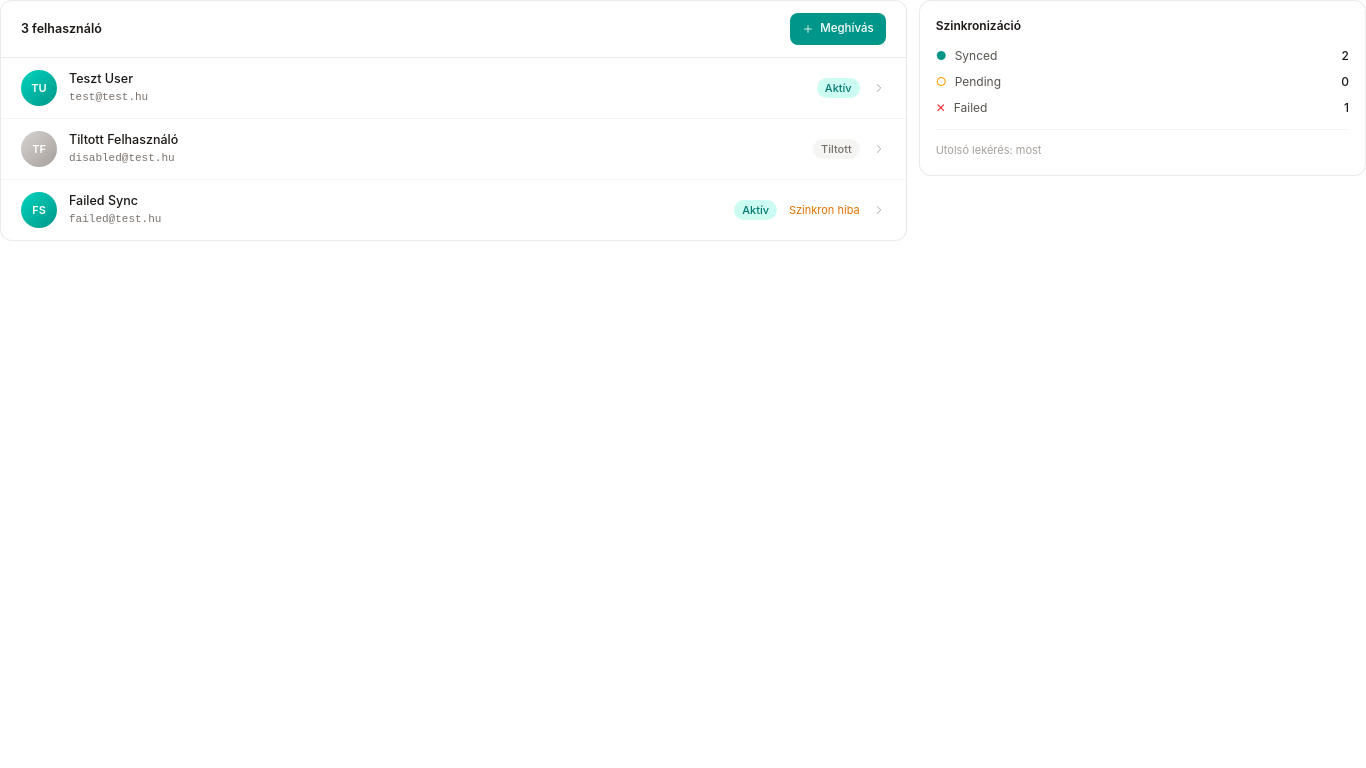
Test: UsersPanel › opens UserDetailSlideOver when user row clicked
expect the text "Teszt User" is shown: met, box [69,71,133,86]
Step 1. Click the button "TU Teszt User test@test.hu Aktív" → [39, 88], box [1,58,906,119]
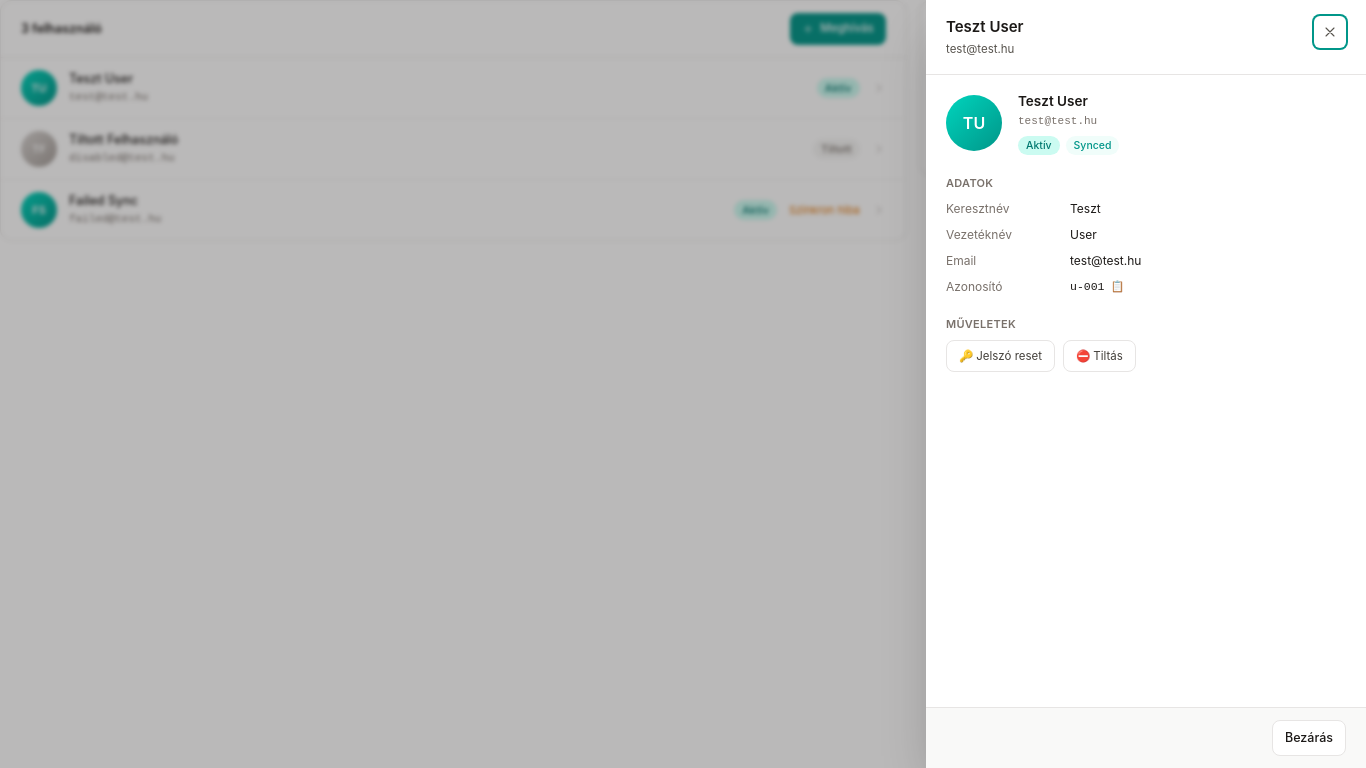
expect the text "Adatok" is shown: met, box [946,176,993,190]
expect the text "Műveletek" is shown: met, box [946,317,1016,331]
